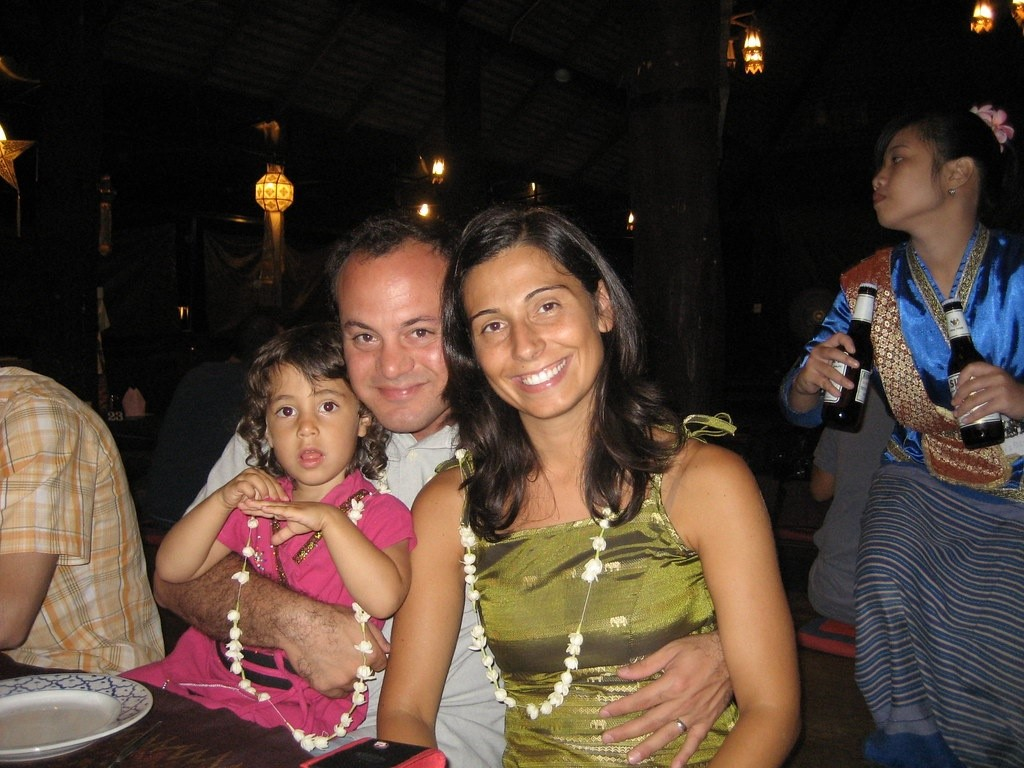face_no_mask: (446, 205, 619, 420), (334, 221, 466, 433), (241, 326, 371, 484), (869, 113, 998, 231)
